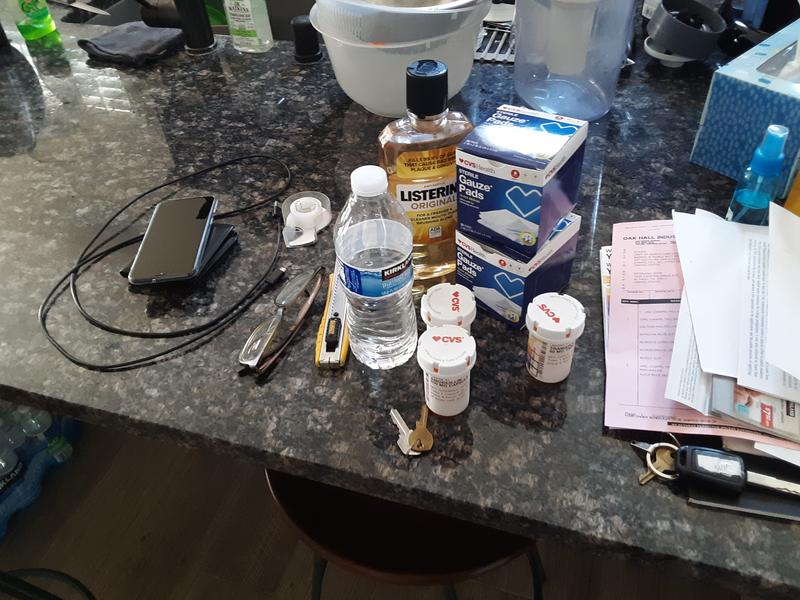glasses: (236, 264, 325, 376)
